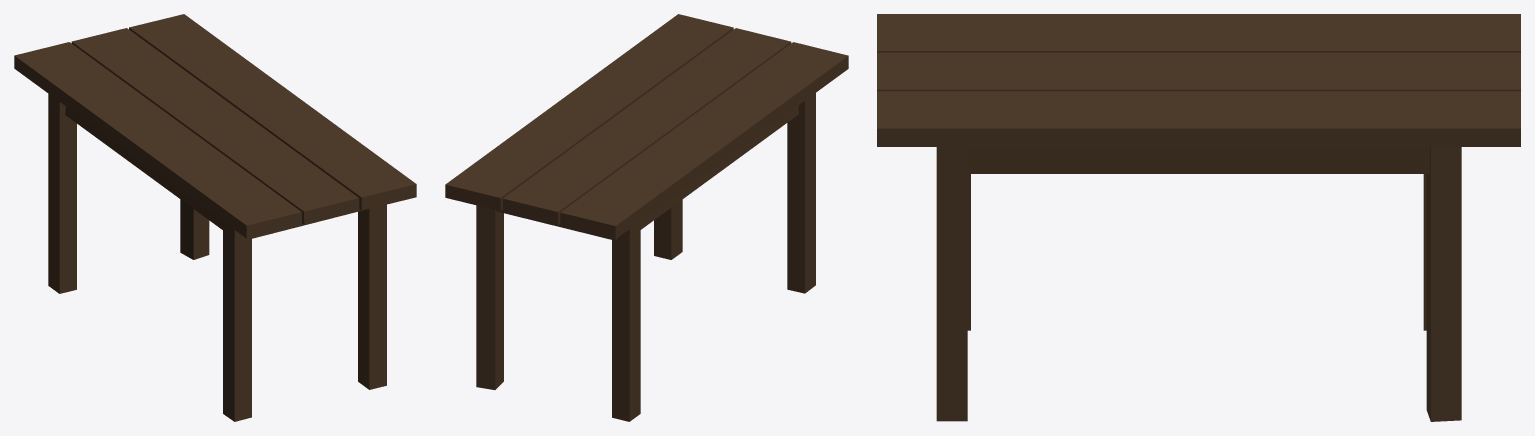
Rendered from table.fbx.
The picture shows the model from 3 angles, left to right: view 1: azimuth 30°, elevation 25°; view 2: azimuth 150°, elevation 25°; view 3: azimuth 270°, elevation 25°; orthographic projection. The views are drawn at different scales.
Visible parts, largest first — view 1: Object_3; view 2: Object_3; view 3: Object_3.
Part boxes in pixels (bbox=[...]): Object_3: bbox=[14, 14, 416, 421]; Object_3: bbox=[445, 14, 848, 421]; Object_3: bbox=[877, 14, 1520, 421].
Bounding box in the file's own units: 267 × 324 × 634.
